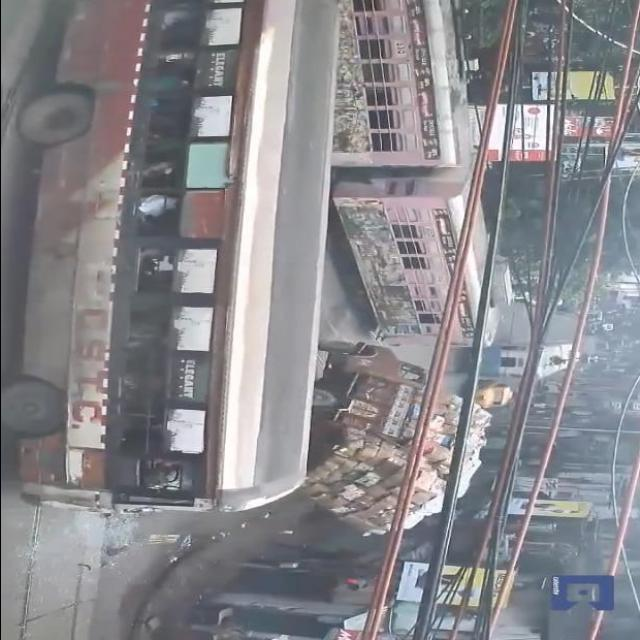accident: (269, 341, 475, 543)
